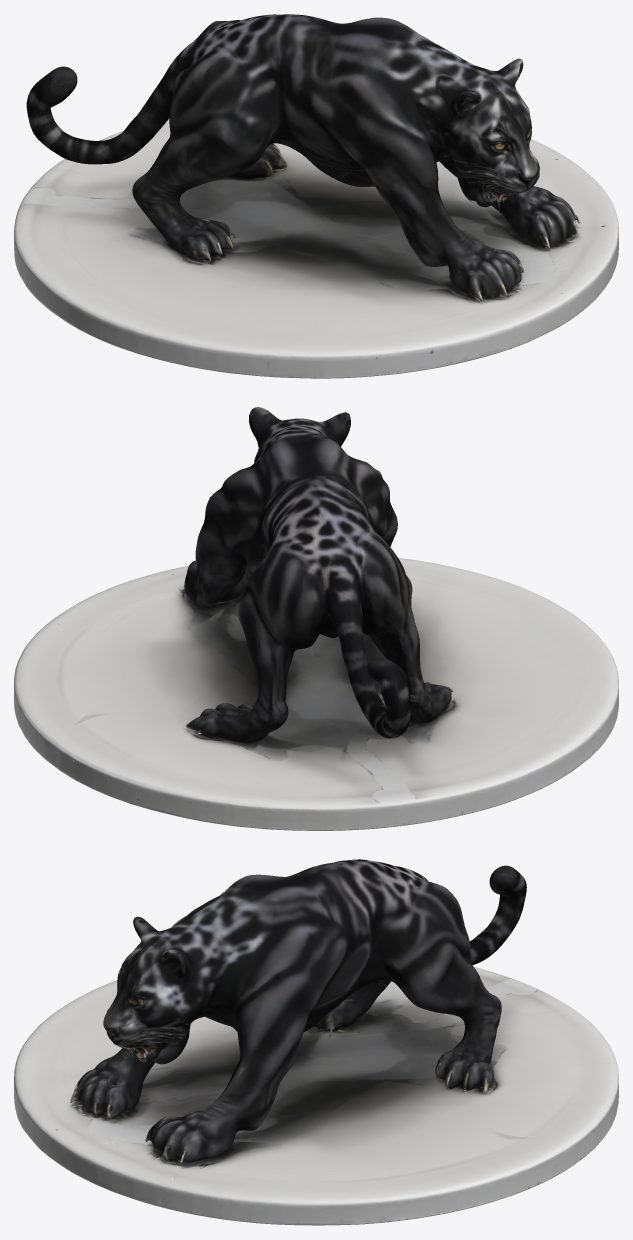
File: Shadow_Stalker.glb
3 views of the same model, one above another, from view 1: azimuth 30°, elevation 25°; view 2: azimuth 150°, elevation 25°; view 3: azimuth 270°, elevation 25° (orthographic).
Size of the model in its own units: 2 by 0.8494 by 2.
Materials: 1 (1 with a texture image).
